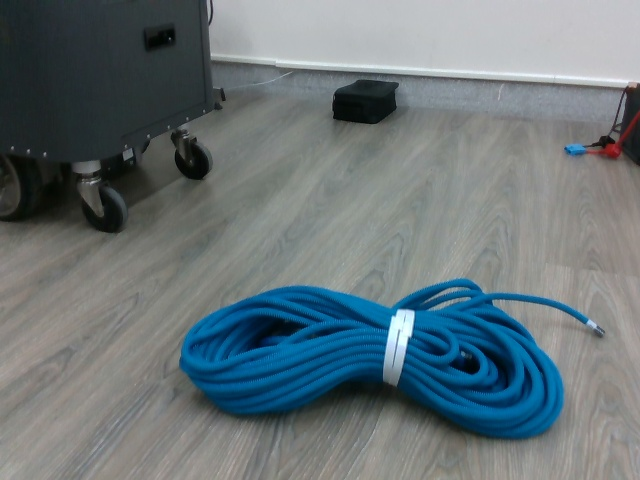rope: (173, 278, 567, 442)
